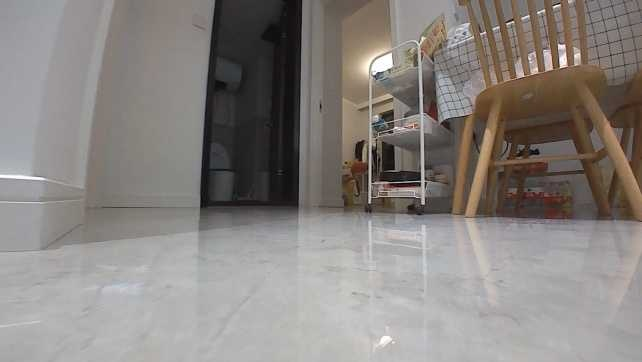dining_table1: (430, 0, 640, 220)
door_anno: (264, 10, 290, 202)
toilet: (205, 140, 236, 203)
